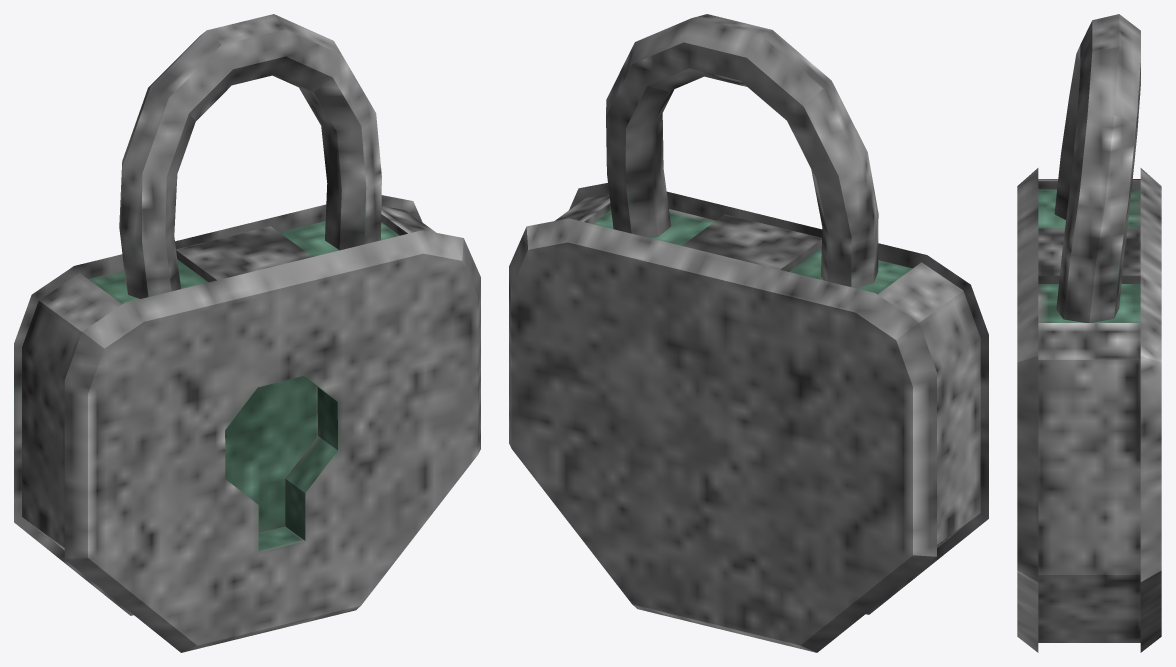
File: steel.glb
3 renders of one model, left to right at view 1: azimuth 30°, elevation 25°; view 2: azimuth 150°, elevation 25°; view 3: azimuth 270°, elevation 25°, orthographic. The views are drawn at different scales.
Visible parts, largest first — view 1: lcok; view 2: lcok; view 3: lcok.
Boxes of the visible parts, x1,y1,x2,y2 form: lcok: (14, 14, 480, 652); lcok: (509, 14, 988, 652); lcok: (1017, 14, 1161, 652).
Size of the model in its own units: 0.1882 by 0.2495 by 0.0558.
1 material, 1 textured.
